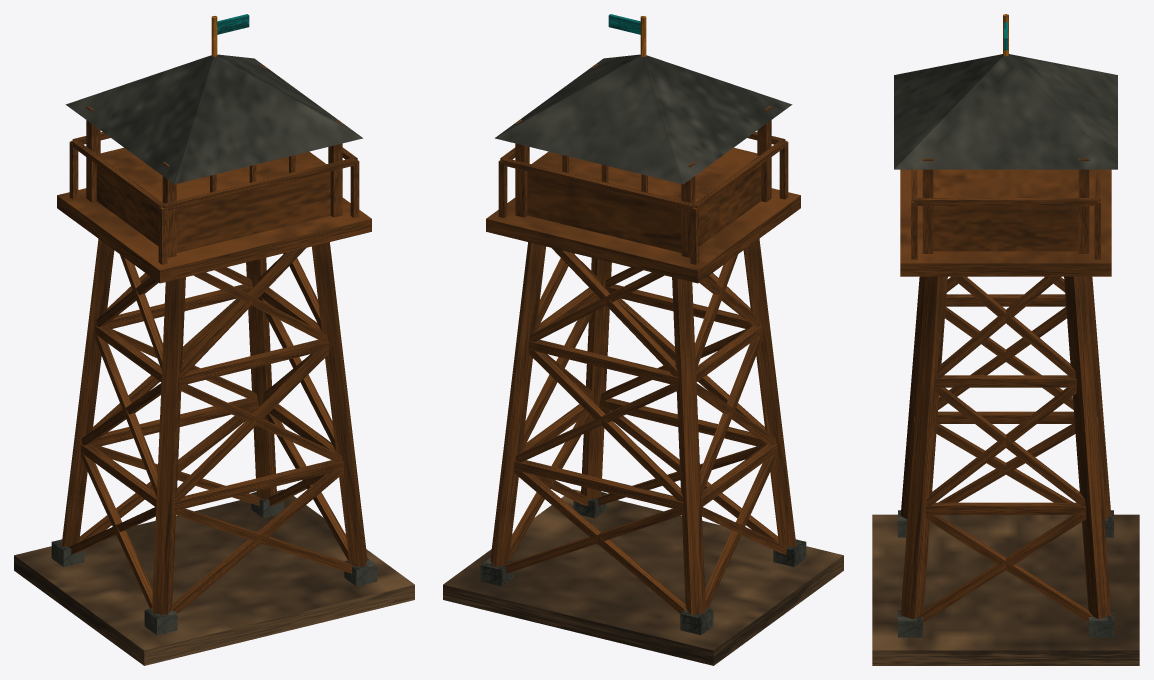
The model's file is north-railhead-storm-tower.glb.
The picture shows the model from 3 angles, left to right: view 1: azimuth 30°, elevation 25°; view 2: azimuth 150°, elevation 25°; view 3: azimuth 270°, elevation 25°; orthographic projection. The views are drawn at different scales.
Parts seen in each view (by area): view 1: north-railhead-storm-tower; view 2: north-railhead-storm-tower; view 3: north-railhead-storm-tower.
Part boxes in pixels (bbox=[...]): north-railhead-storm-tower: bbox=[14, 14, 414, 665]; north-railhead-storm-tower: bbox=[443, 14, 843, 665]; north-railhead-storm-tower: bbox=[872, 14, 1139, 665].
Size of the model in its own units: 4.8 by 9.63 by 4.
Materials: 1 (1 with a texture image).
